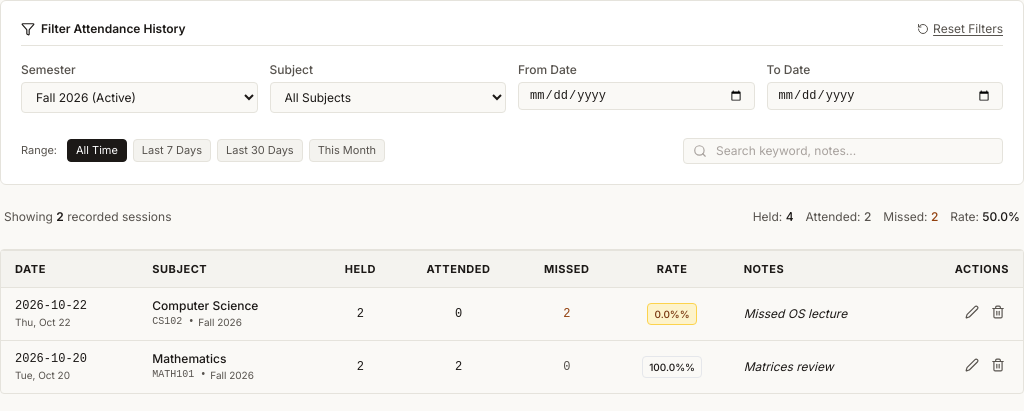
Test: AttendanceHistoryList Component › filters history records by search query
The image size is (1024, 411).
Expected: the text "Mathematics" is shown, top-left (152, 351), bottom-right (226, 366)
In the search field named "search records": x=843, y=151 top-left (683, 138), bottom-right (1003, 164), type "Matrices"
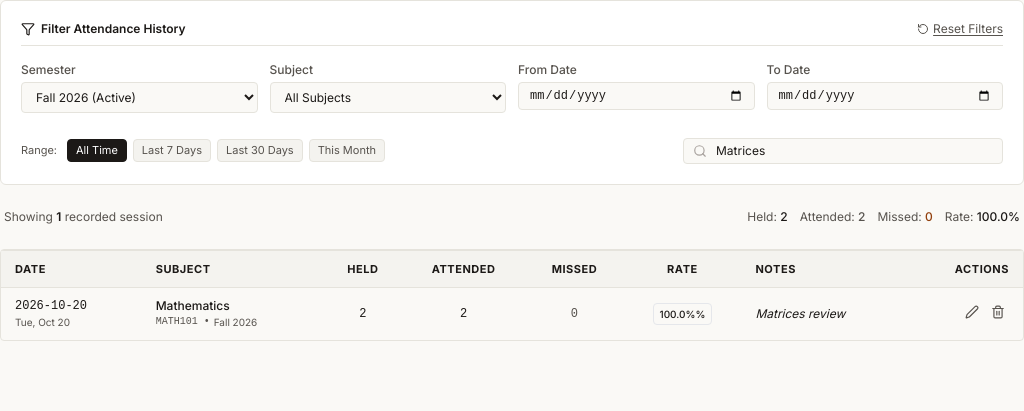
Expected: the text "Mathematics" is shown, top-left (156, 298), bottom-right (230, 313)
Expected: the text "Computer Science" is gone
